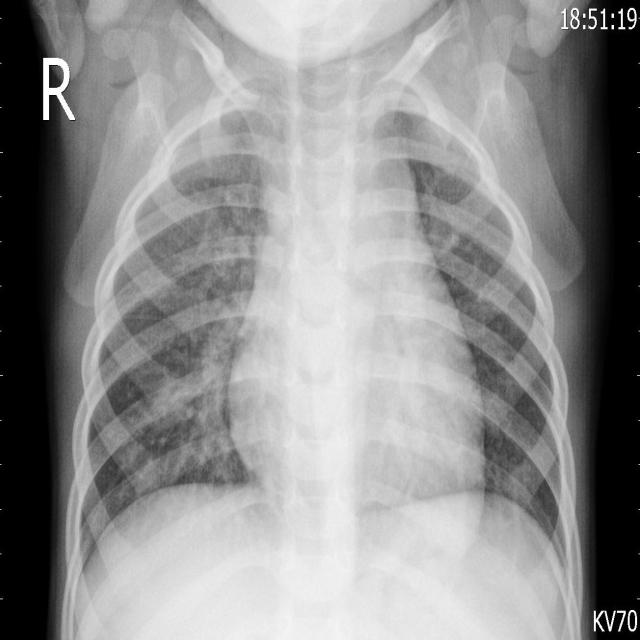low-pneumonia: (150, 219, 261, 477), (422, 179, 521, 423), (195, 73, 284, 190)
